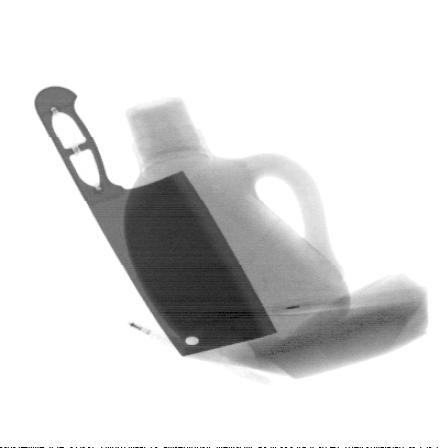Knife: (33, 85, 281, 359)
